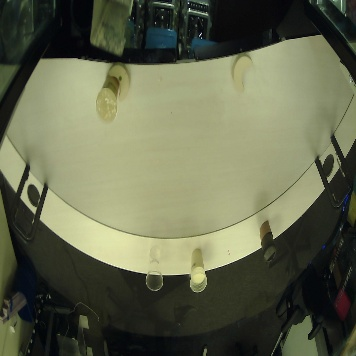empty_cup: (146, 245, 165, 292)
full_cup: (95, 76, 119, 125), (189, 248, 207, 293)
puck: (105, 62, 131, 102), (230, 54, 256, 94)
